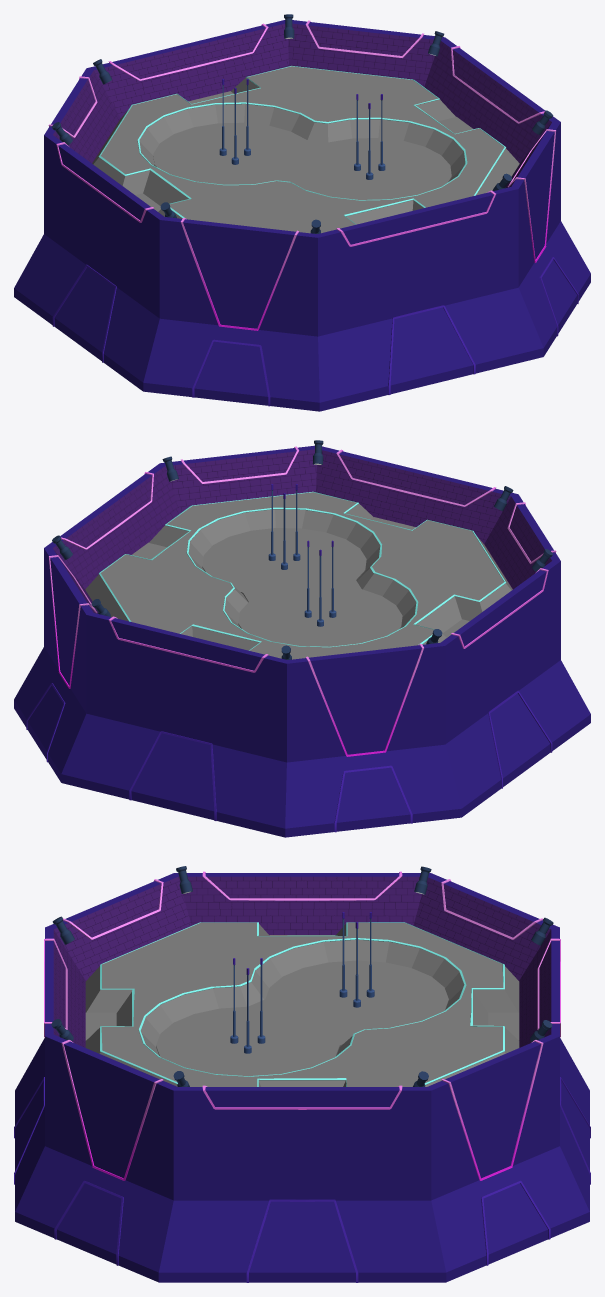
The model's file is aarena.fbx.
3 views of the same model, one above another, from view 1: azimuth 30°, elevation 25°; view 2: azimuth 150°, elevation 25°; view 3: azimuth 270°, elevation 25° (orthographic). The views are drawn at different scales.
Parts seen in each view (by area): view 1: Walls, Glass_roof, tower_base (×2), lamps; view 2: Walls, Glass_roof, tower_base (×2), lamps; view 3: Walls, Glass_roof, tower_base (×2), lamps, obs_box01 (×2).
Boxes of the visible parts, left/top/right/bottom form: Walls: left=14, top=20, right=590, bottom=411; Glass_roof: left=92, top=65, right=519, bottom=233; tower_base (×2): left=153, top=122, right=451, bottom=199; lamps: left=51, top=14, right=553, bottom=233; Walls: left=14, top=445, right=590, bottom=837; Glass_roof: left=85, top=491, right=512, bottom=659; tower_base (×2): left=202, top=528, right=402, bottom=646; lamps: left=52, top=440, right=552, bottom=659; Walls: left=14, top=871, right=590, bottom=1282; Glass_roof: left=85, top=922, right=519, bottom=1086; tower_base (×2): left=156, top=960, right=448, bottom=1075; lamps: left=51, top=866, right=553, bottom=1086; obs_box01 (×2): left=85, top=1012, right=519, bottom=1040.
Bounding box in the file's own units: 4158 × 1767 × 4158.
